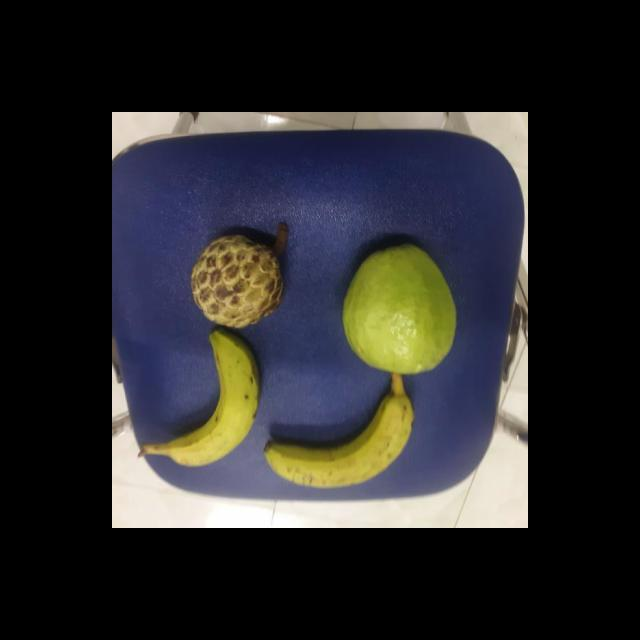Sakya fruit: (185, 234, 285, 330)
banana: (259, 386, 417, 496), (158, 327, 266, 472)
guava: (341, 239, 460, 376)
